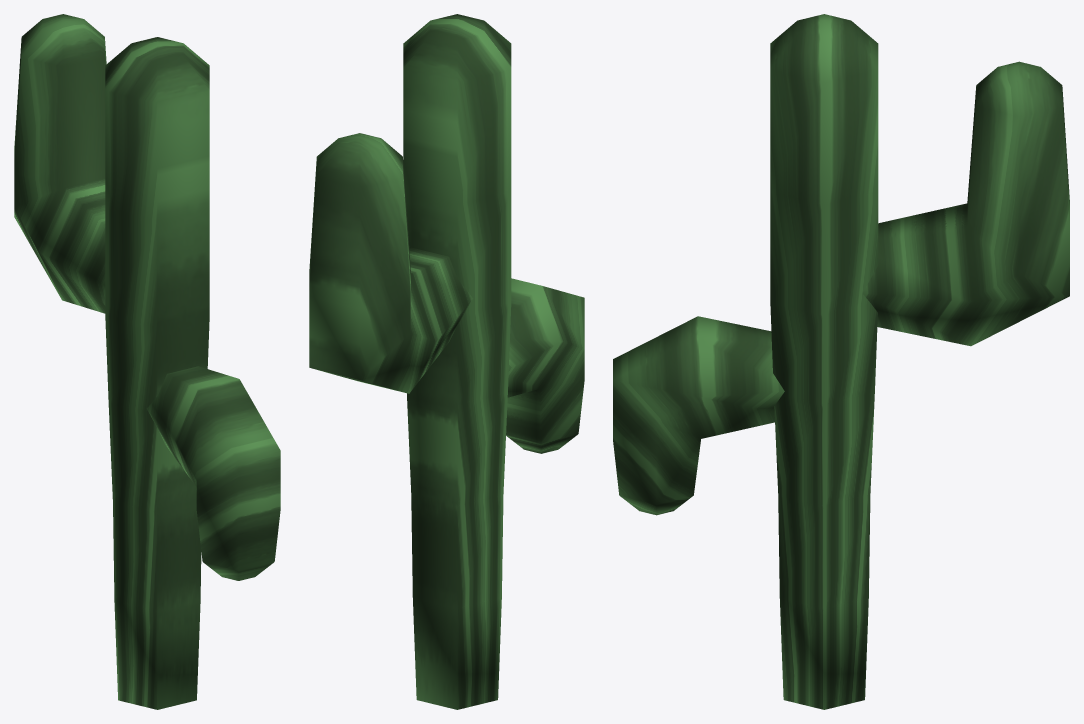
File: Cactus_0.FBX
The picture shows the model from 3 angles, left to right: view 1: azimuth 30°, elevation 25°; view 2: azimuth 150°, elevation 25°; view 3: azimuth 270°, elevation 25°; orthographic projection. The views are drawn at different scales.
Visible parts, largest first — view 1: Cactus_0; view 2: Cactus_0; view 3: Cactus_0.
Part boxes in pixels (x1=…): Cactus_0: x1=14, y1=14, x2=280, y2=709; Cactus_0: x1=309, y1=14, x2=584, y2=709; Cactus_0: x1=613, y1=14, x2=1069, y2=709.
Size of the model in its own units: 2.14 by 7.82 by 12.65.
